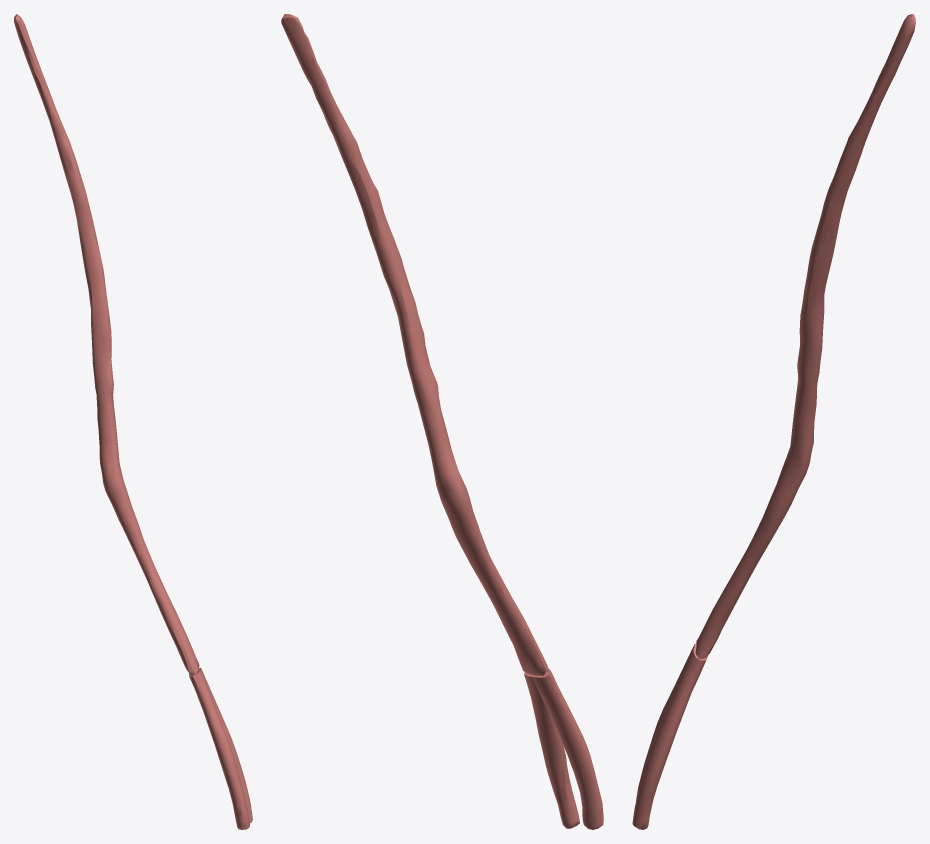
The model's file is fma42555_mm1966.glb.
3 renders of one model, left to right at view 1: azimuth 90°, elevation 25°; view 2: azimuth 150°, elevation 25°; view 3: azimuth 270°, elevation 25°, orthographic. The views are drawn at different scales.
Parts seen in each view (by area): view 1: FMA42555_MM1966; view 2: FMA42555_MM1966; view 3: FMA42555_MM1966.
Boxes of the visible parts, x1,y1,x2,y2 form: FMA42555_MM1966: (14,14,252,829); FMA42555_MM1966: (281,14,603,829); FMA42555_MM1966: (632,14,915,829).
Bounding box in the file's own units: 0.044 × 0.1947 × 0.0564.
